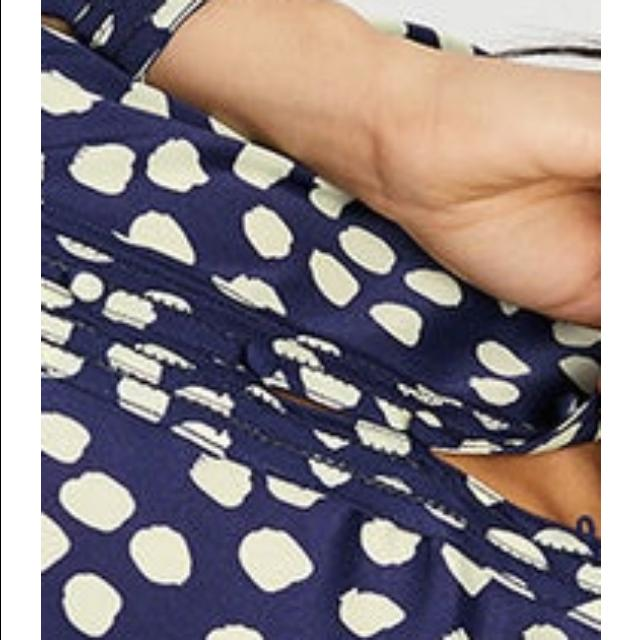polyester: (40, 0, 600, 640)
